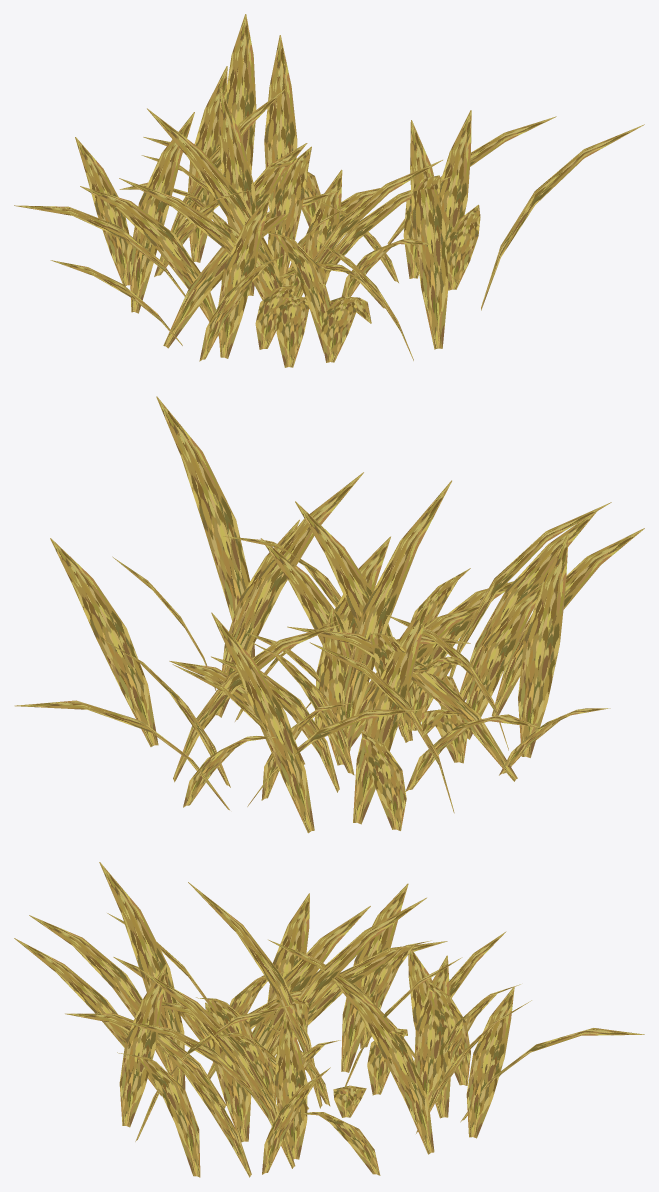
File: nat_savanna_grass.glb
3 renders of one model, top to bottom at view 1: azimuth 30°, elevation 25°; view 2: azimuth 150°, elevation 25°; view 3: azimuth 270°, elevation 25°, orthographic. The views are drawn at different scales.
Parts seen in each view (by area): view 1: foliage; view 2: foliage; view 3: foliage.
Boxes of the visible parts, bbox=[...] form: foliage: bbox=[14, 14, 644, 367]; foliage: bbox=[14, 396, 644, 833]; foliage: bbox=[14, 862, 644, 1177].
Bounding box in the file's own units: 2.29 × 0.9086 × 2.48.
Materials: 1 (1 with a texture image).
